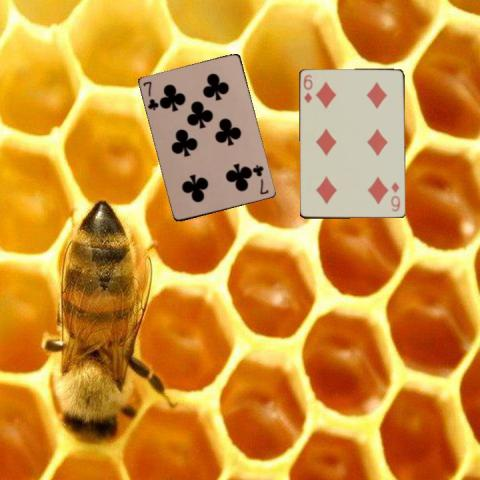6d: (388, 179, 401, 213), (301, 72, 314, 105)
7c: (140, 78, 160, 112), (251, 162, 270, 196)
